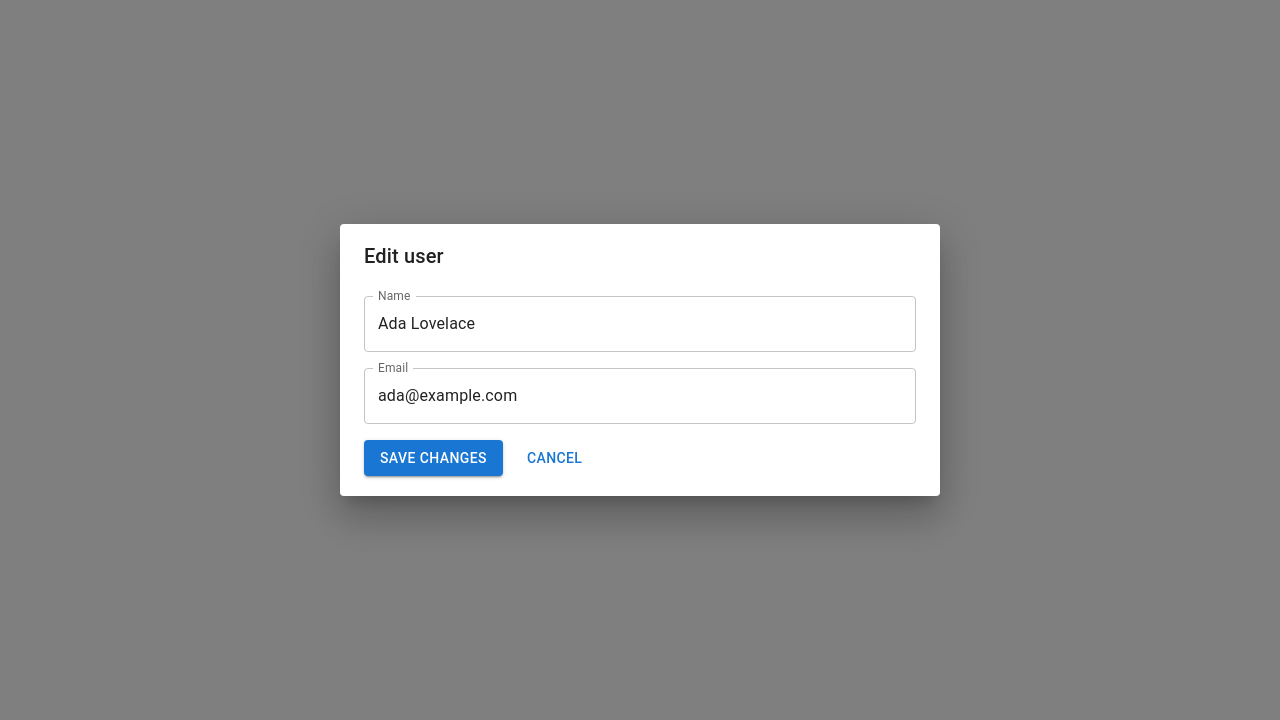
Scenario: EditUserDialog › renders the mutation error and keeps the dialog open on rejection
Click the button "Save changes".
click(433, 458)  # box [364,440,503,476]
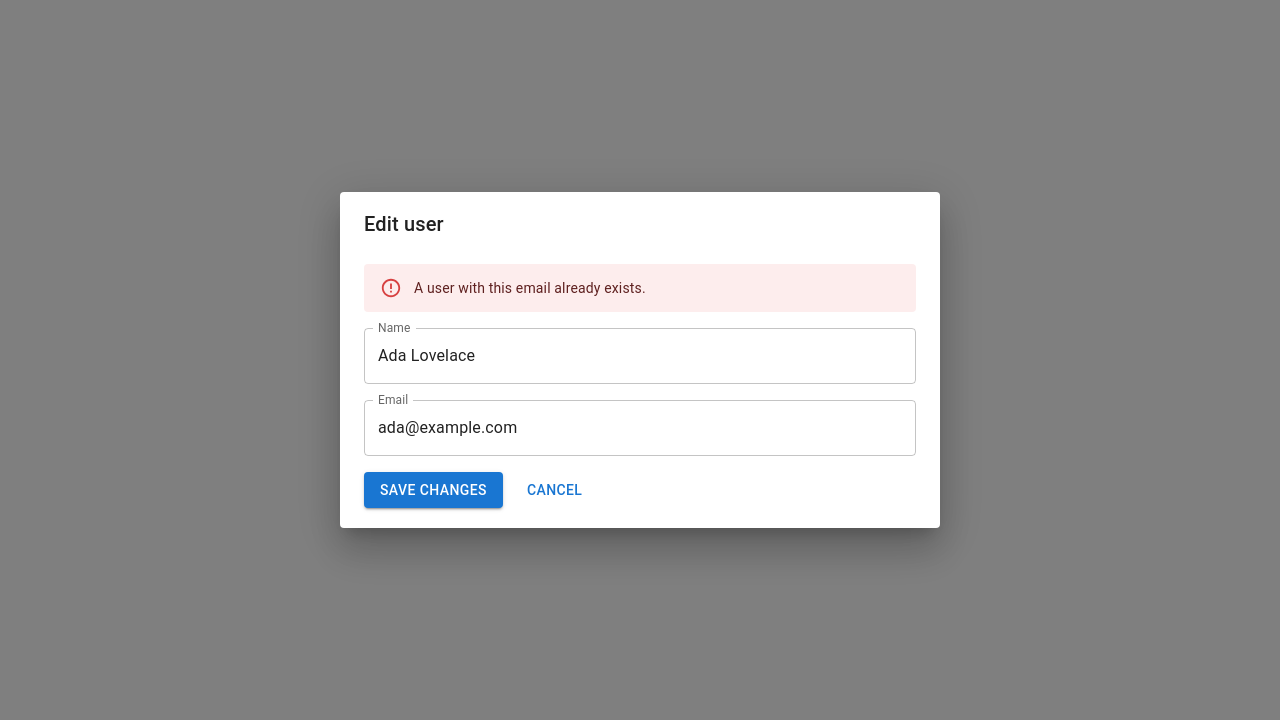
Check: the message reads "A user with this email already exists.", box [414,280,646,296]
